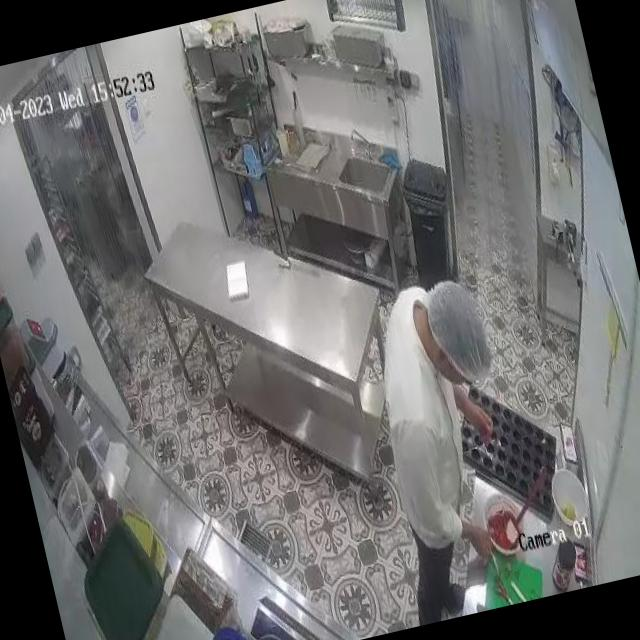hairnet: (423, 276, 492, 385)
